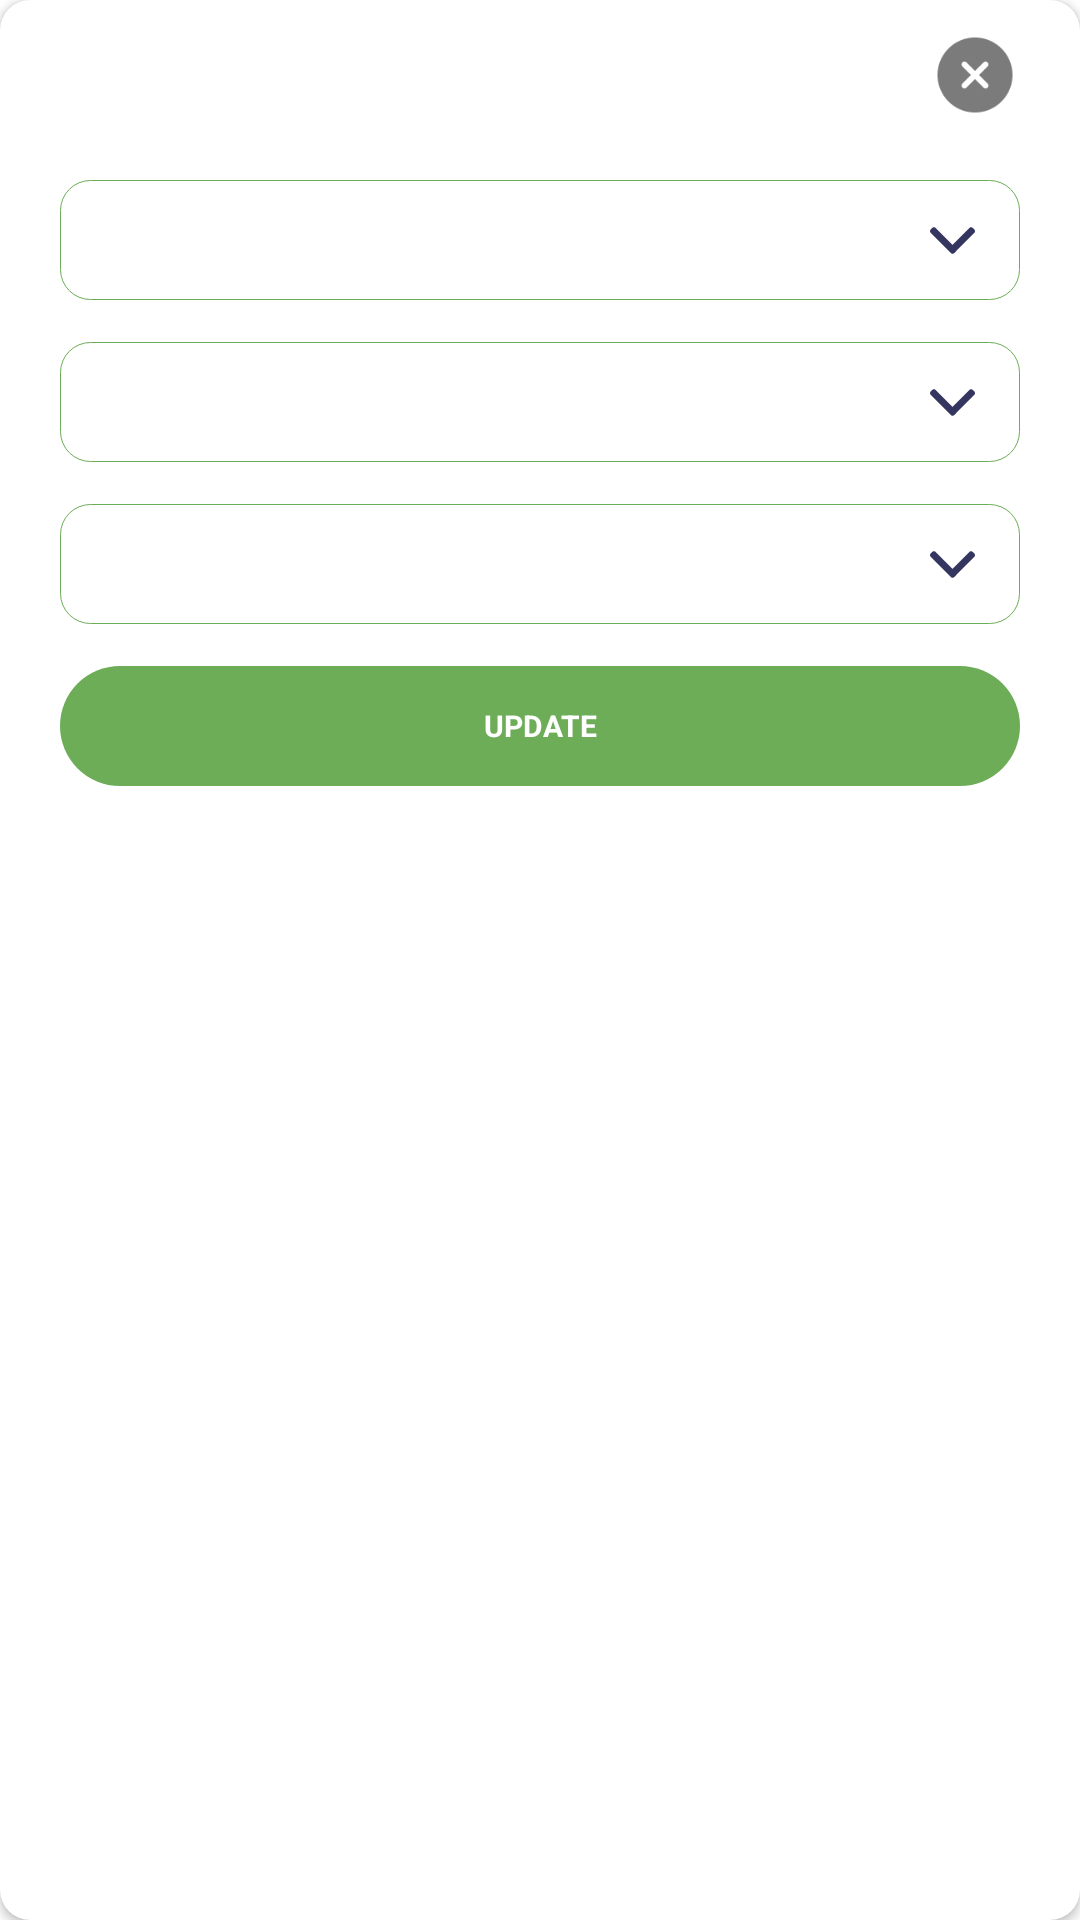

Named icons in this screenshot (1080 x 1920) and their centers, point (x, y):
close: point (975, 75)
down arrow: point (952, 240), point (952, 402), point (952, 564)
